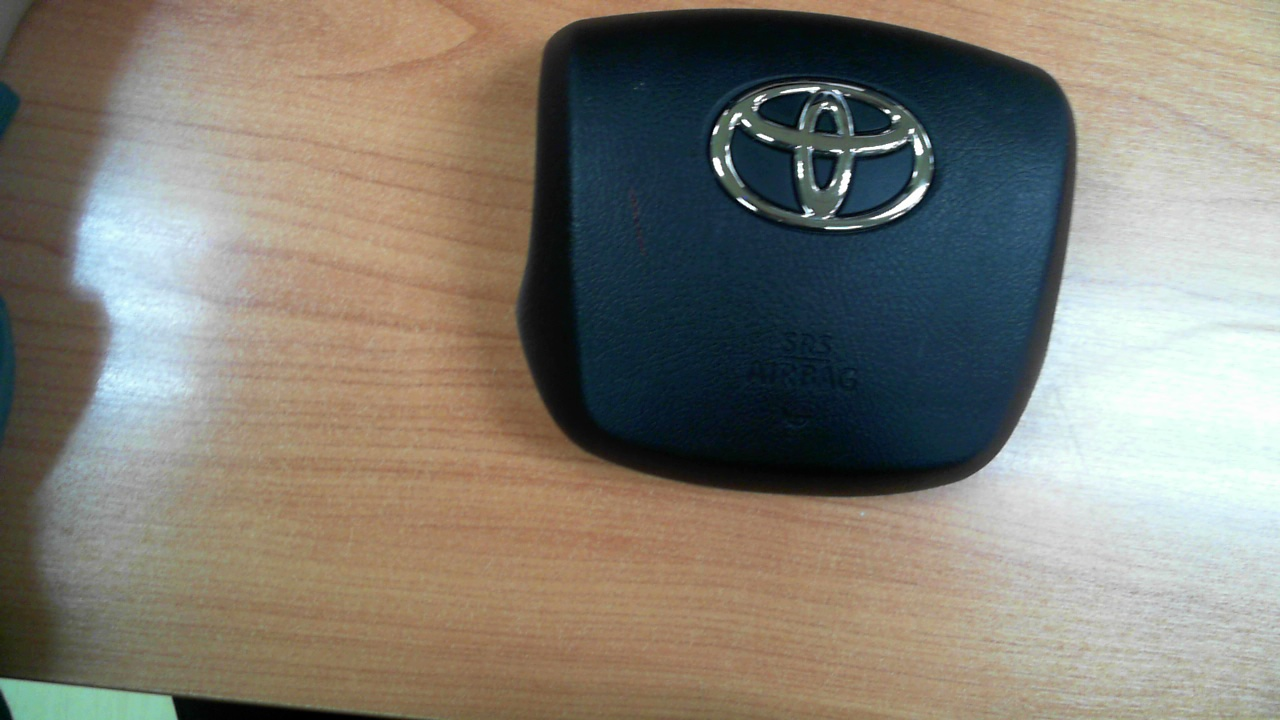Airbag: (511, 8, 1074, 497)
Toyota: (709, 79, 935, 231)
